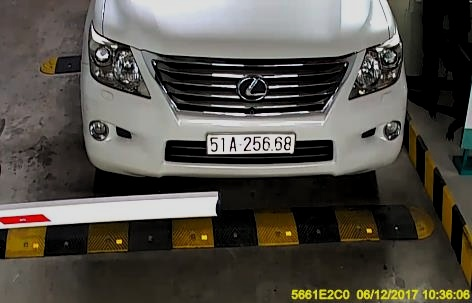plate: (206, 128, 305, 157)
